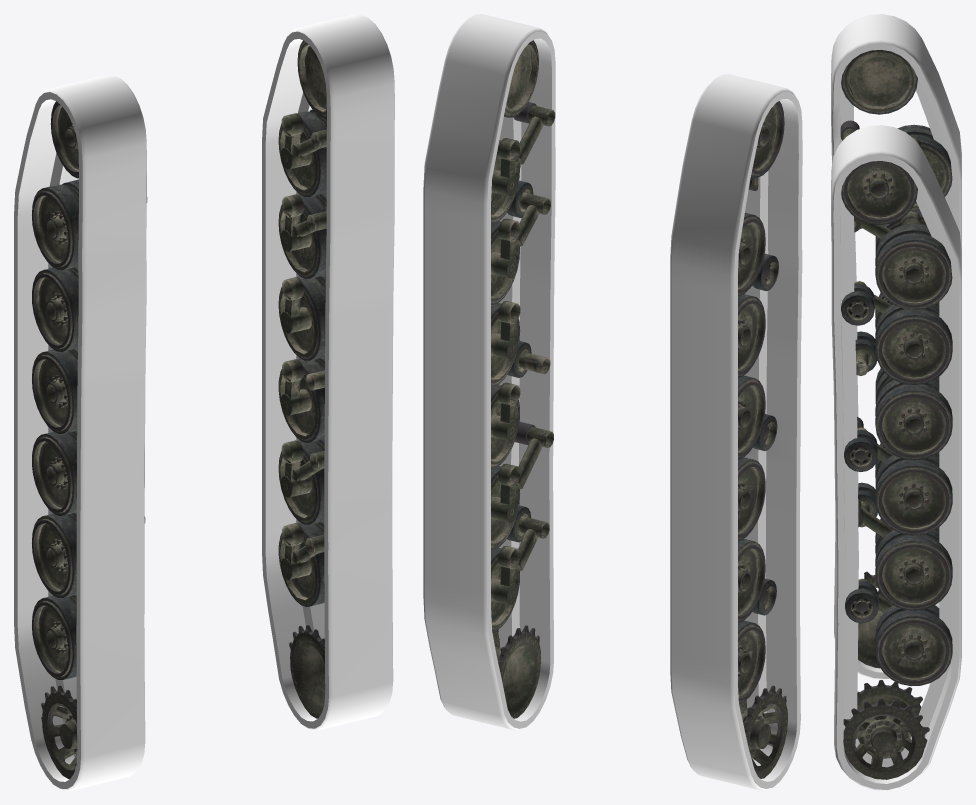
The model's file is Chassis.glb.
The picture shows the model from 3 angles, left to right: view 1: azimuth 30°, elevation 25°; view 2: azimuth 150°, elevation 25°; view 3: azimuth 270°, elevation 25°; orthographic projection. The views are drawn at different scales.
Parts seen in each view (by area): view 1: set_1_group_0, set_0_group_0, set_3_group_0, set_2_group_0; view 2: set_1_group_0, set_0_group_0, set_3_group_0, set_2_group_0; view 3: set_3_group_0, set_0_group_0, set_2_group_0, set_1_group_0.
Boxes of the visible parts, x1,y1,x2,y2 form: set_1_group_0: [14, 74, 146, 790]; set_0_group_0: [262, 14, 394, 730]; set_3_group_0: [278, 40, 326, 718]; set_2_group_0: [32, 101, 147, 779]; set_1_group_0: [670, 74, 802, 790]; set_0_group_0: [423, 14, 555, 730]; set_3_group_0: [491, 40, 555, 718]; set_2_group_0: [738, 101, 787, 778]; set_3_group_0: [841, 161, 952, 779]; set_0_group_0: [831, 125, 961, 790]; set_2_group_0: [840, 50, 952, 668]; set_1_group_0: [831, 14, 961, 679].
Size of the model in its own units: 3.02 by 6.44 by 1.19.
4 materials, 2 textured.
